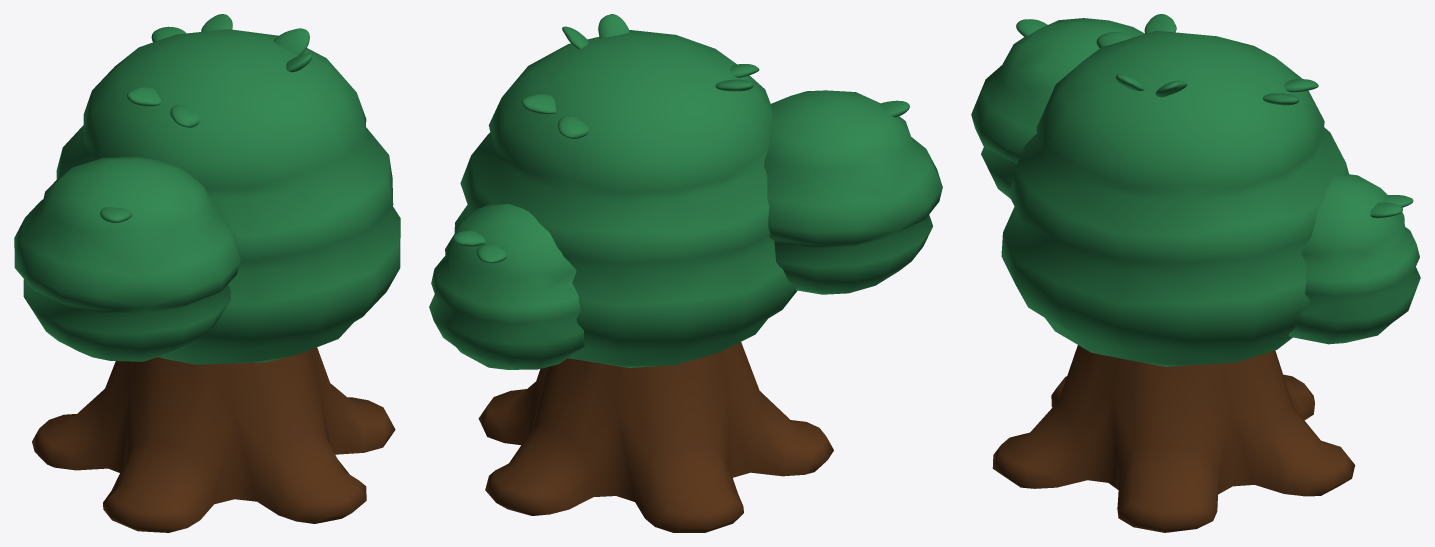
Rendered from Bigtree.fbx.
3 views of the same model, side by side, from view 1: azimuth 30°, elevation 25°; view 2: azimuth 150°, elevation 25°; view 3: azimuth 270°, elevation 25° (orthographic).
Parts seen in each view (by area): view 1: Big_Tree, Big_Tree.001, Big_Tree.004; view 2: Big_Tree, Big_Tree.001, Big_Tree.004; view 3: Big_Tree, Big_Tree.001, Big_Tree.004.
Part boxes in pixels (x1,y1,x2,y2): Big_Tree: (14, 29, 400, 364); Big_Tree.001: (32, 347, 395, 532); Big_Tree.004: (100, 14, 312, 222); Big_Tree: (429, 30, 942, 369); Big_Tree.001: (478, 342, 833, 532); Big_Tree.004: (453, 14, 909, 263); Big_Tree: (971, 18, 1420, 366); Big_Tree.001: (992, 345, 1355, 532); Big_Tree.004: (1016, 14, 1413, 218).
Size of the model in its own units: 5.56 by 5.52 by 5.42.
